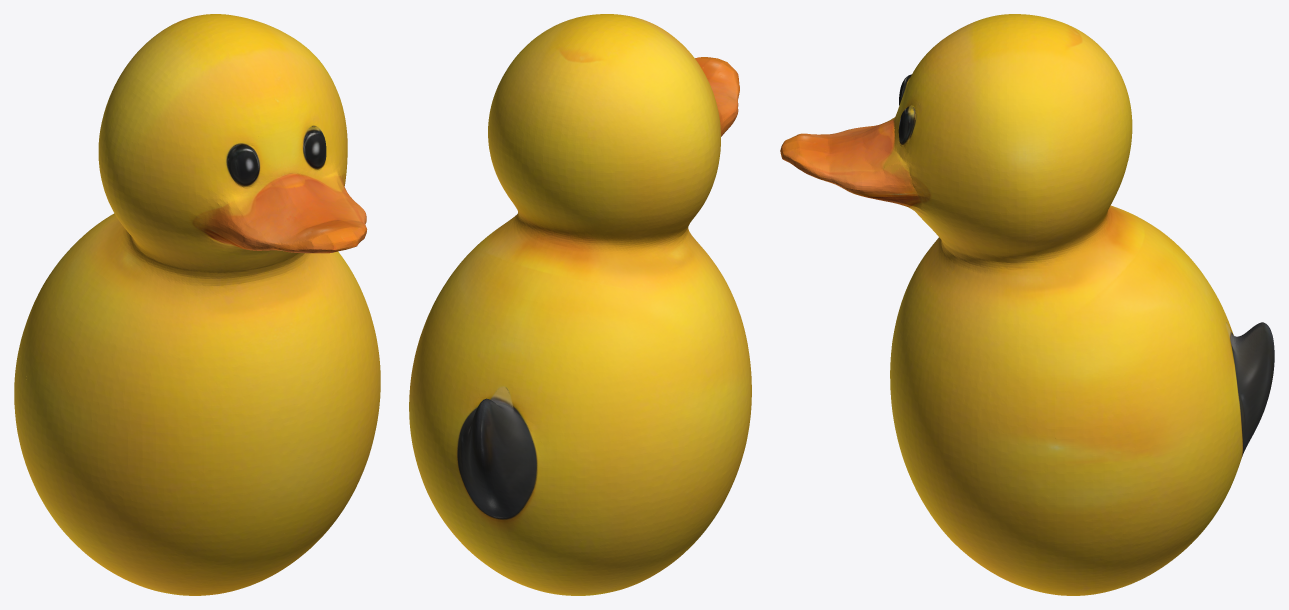
The model's file is KitchenChaos_Duck_0512155846_texture.fbx.
3 views of the same model, side by side, from view 1: azimuth 30°, elevation 25°; view 2: azimuth 150°, elevation 25°; view 3: azimuth 270°, elevation 25° (orthographic). The views are drawn at different scales.
Visible parts, largest first — view 1: temp; view 2: temp; view 3: temp.
Boxes of the visible parts, left/top/right/bottom form: temp: left=14, top=14, right=380, bottom=595; temp: left=409, top=14, right=751, bottom=595; temp: left=780, top=14, right=1274, bottom=595.
Bounding box in the file's own units: 115 × 200 × 161.
Materials: 1 (1 with a texture image).
